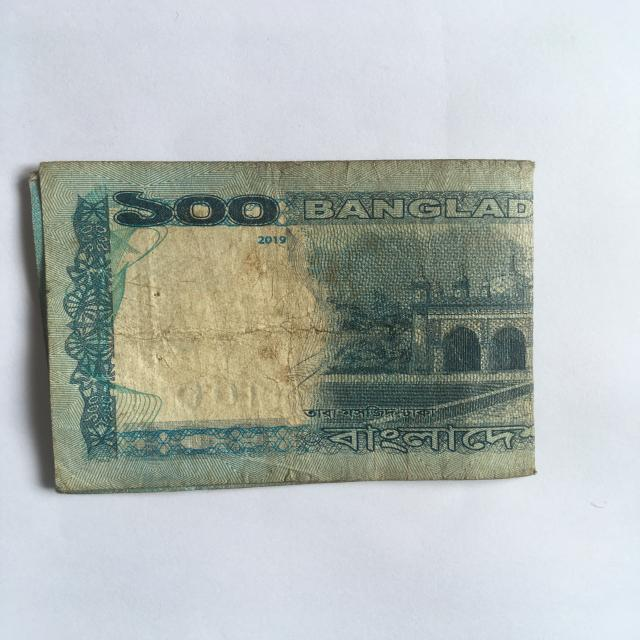Taka: (25, 155, 544, 493)
